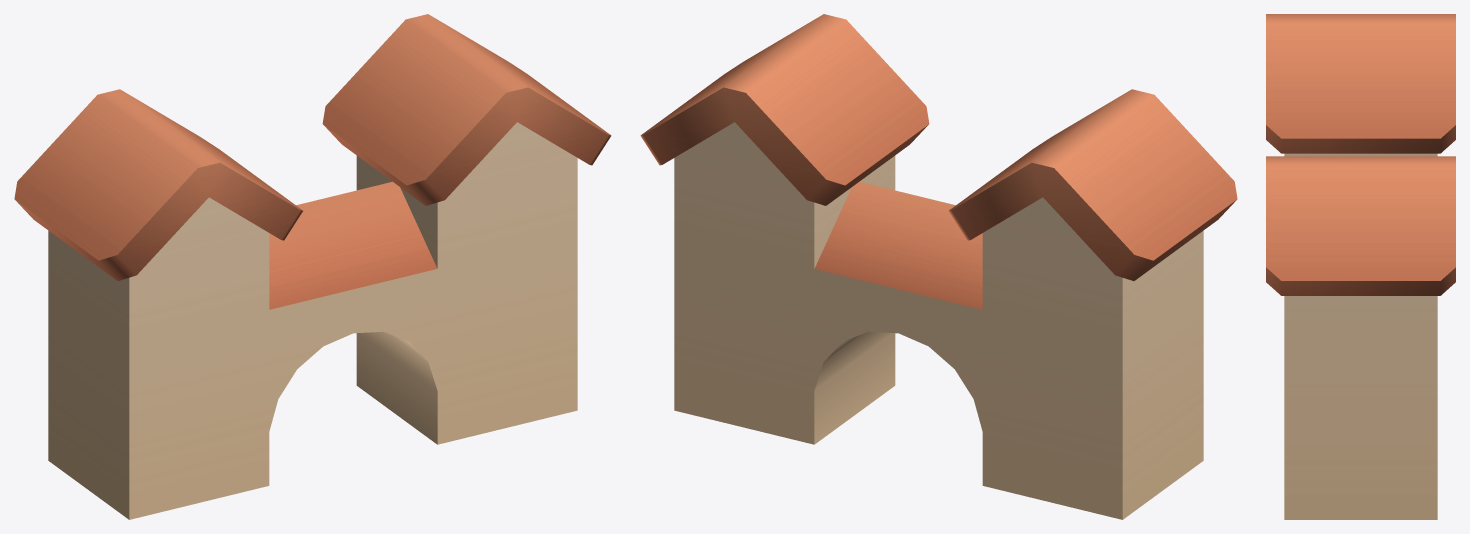
The model's file is structure-gate-building.glb.
3 renders of one model, left to right at view 1: azimuth 30°, elevation 25°; view 2: azimuth 150°, elevation 25°; view 3: azimuth 270°, elevation 25°, orthographic. The views are drawn at different scales.
Parts seen in each view (by area): view 1: structure-gate-building; view 2: structure-gate-building; view 3: structure-gate-building.
Part boxes in pixels (x1,y1,x2,y2): structure-gate-building: (14,14,611,519); structure-gate-building: (640,14,1237,519); structure-gate-building: (1266,14,1455,519).
Size of the model in its own units: 0.9155 by 0.5877 by 0.31.
1 material, 1 textured.
